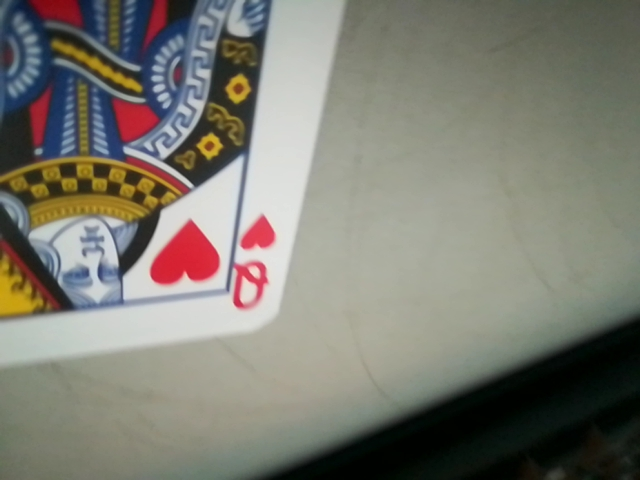hx q: (231, 210, 278, 312)
